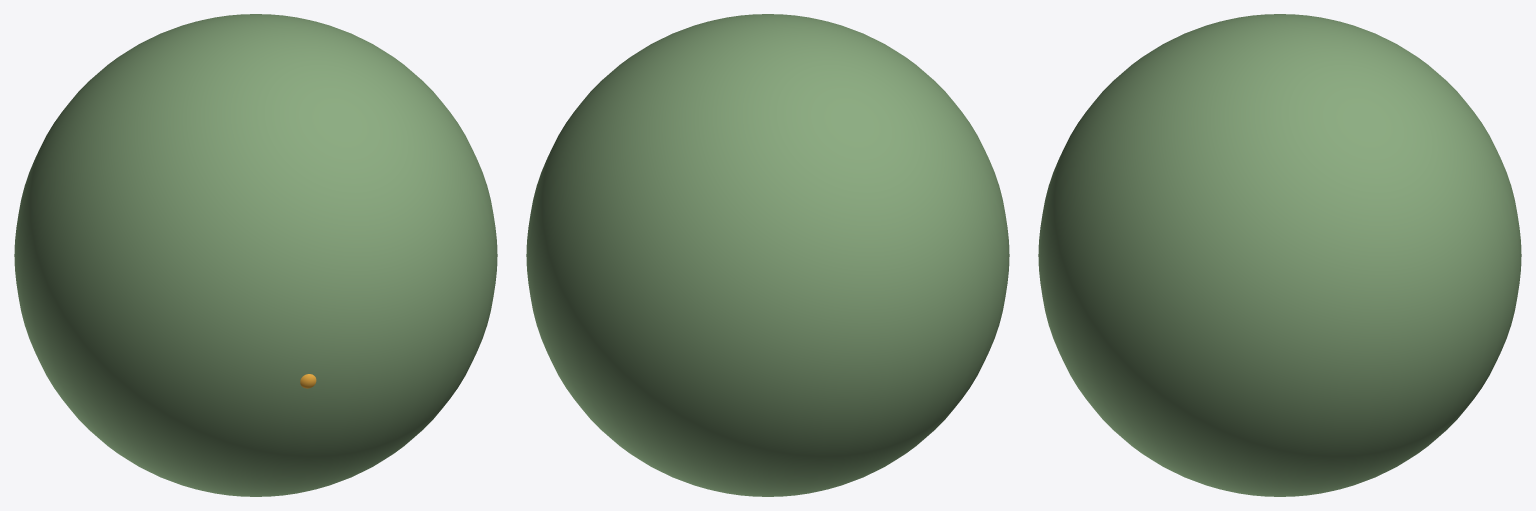
The model's file is atom.glb.
The picture shows the model from 3 angles, left to right: view 1: azimuth 30°, elevation 25°; view 2: azimuth 150°, elevation 25°; view 3: azimuth 270°, elevation 25°; orthographic projection.
Visible parts, largest first — view 1: electron-cloud-outer; view 2: electron-cloud-outer; view 3: electron-cloud-outer.
Boxes of the visible parts, bbox=[...] form: electron-cloud-outer: bbox=[14, 14, 497, 496]; electron-cloud-outer: bbox=[526, 14, 1009, 496]; electron-cloud-outer: bbox=[1038, 14, 1521, 496].
Bounding box in the file's own units: 3.7 × 3.7 × 3.7.
